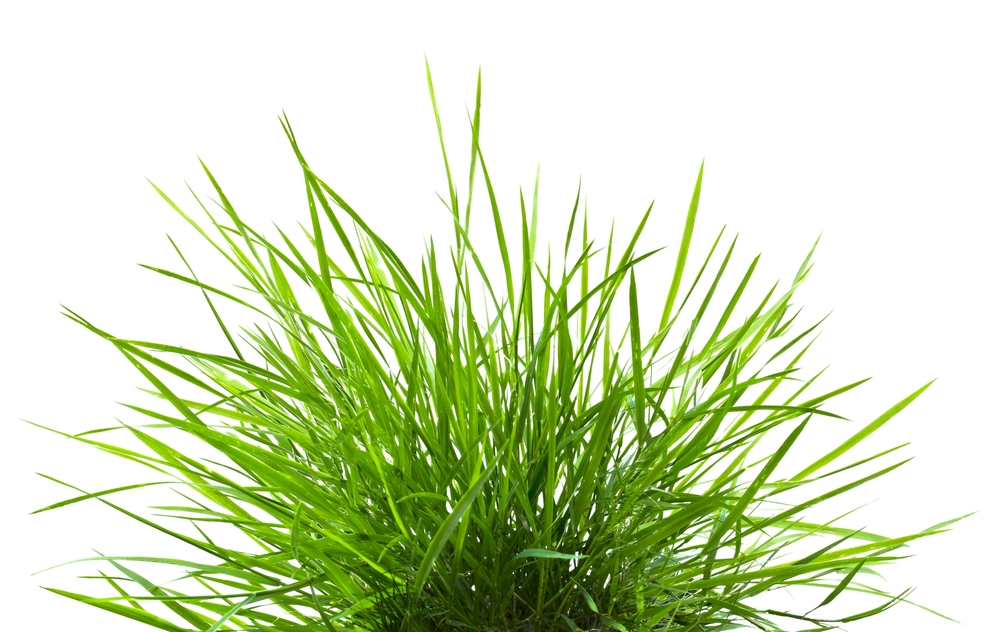grass: (294, 338, 714, 632)
